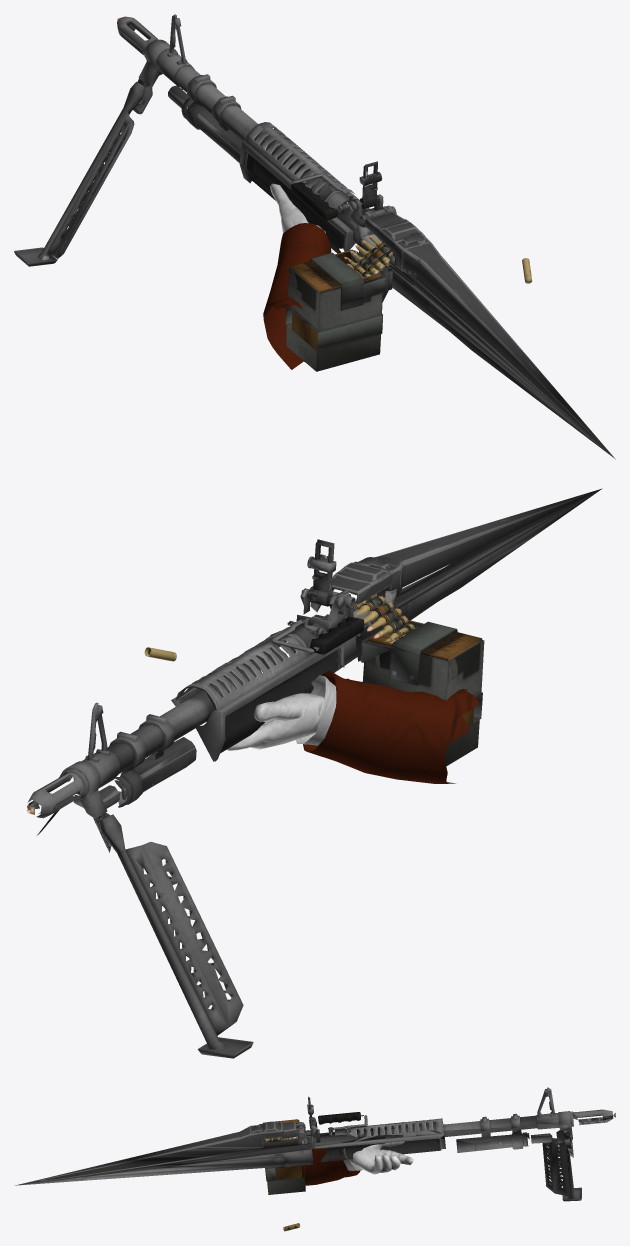
Rendered from frame_17.obj.
3 renders of one model, top to bottom at view 1: azimuth 30°, elevation 25°; view 2: azimuth 150°, elevation 25°; view 3: azimuth 270°, elevation 25°, orthographic. The views are drawn at different scales.
Visible parts, largest first — view 1: Mesh.005, PlayerModelMerged.001_PlayerModelMerged, Mesh.001; view 2: Mesh.005, PlayerModelMerged.001_PlayerModelMerged, Mesh.001; view 3: Mesh.005, PlayerModelMerged.001_PlayerModelMerged.
Part boxes in pixels (<box>): Mesh.005: <box>14,14,615,459</box>; PlayerModelMerged.001_PlayerModelMerged: <box>263,183,331,369</box>; Mesh.001: <box>344,235,392,277</box>; Mesh.005: <box>27,488,602,1058</box>; PlayerModelMerged.001_PlayerModelMerged: <box>227,670,479,783</box>; Mesh.001: <box>355,596,414,641</box>; Mesh.005: <box>15,1087,613,1201</box>; PlayerModelMerged.001_PlayerModelMerged: <box>301,1141,413,1185</box>.
Bounding box in the file's own units: 0.8111 × 0.6124 × 2.26.
